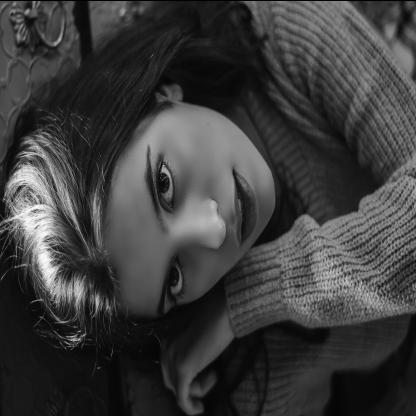Eye: (149, 142, 183, 218), (165, 249, 196, 303)
Mouth: (232, 156, 256, 240)
Nose: (168, 194, 229, 254)
